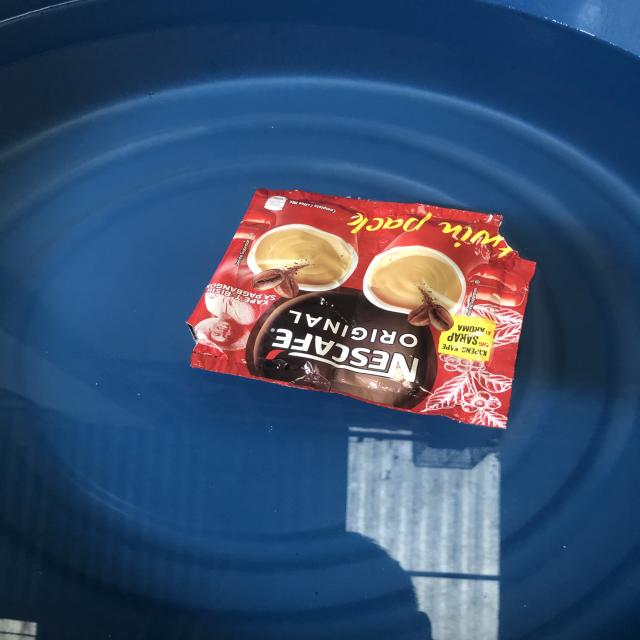Plastic Wrapper: (168, 167, 540, 439)
